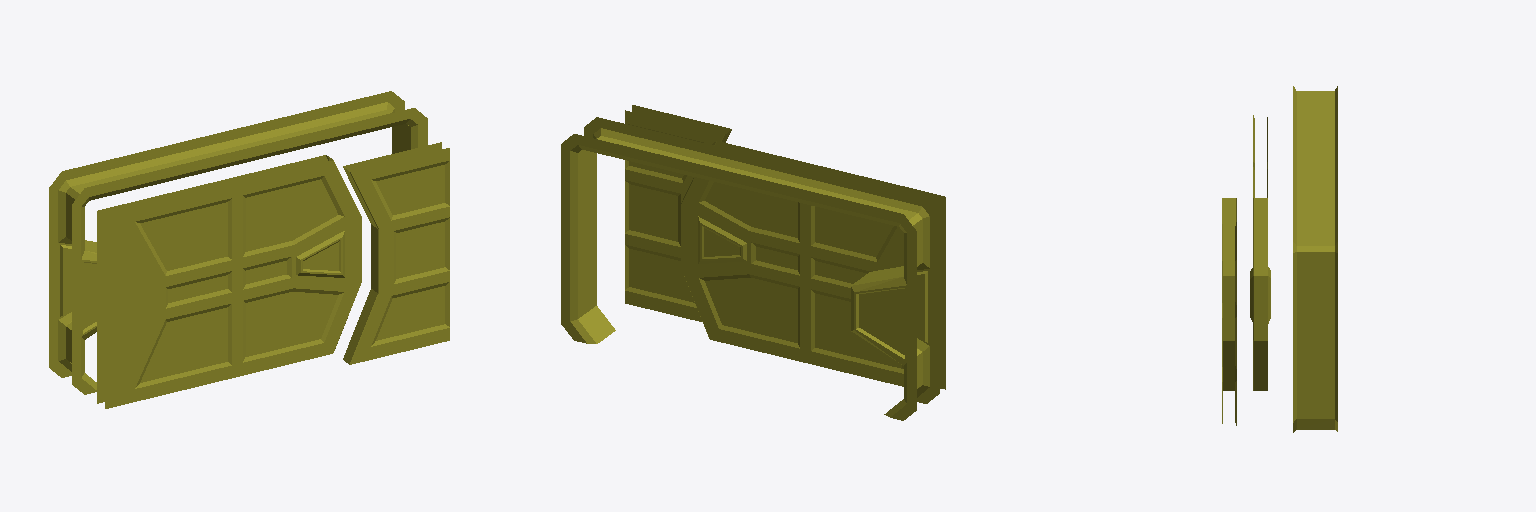
Rendered from BlastDoor.obj.
3 renders of one model, left to right at view 1: azimuth 30°, elevation 25°; view 2: azimuth 150°, elevation 25°; view 3: azimuth 270°, elevation 25°, orthographic.
Parts seen in each view (by area): view 1: SM_BlastDoorFrame_E; view 2: SM_BlastDoorFrame_E; view 3: SM_BlastDoorFrame_E.
Part boxes in pixels (x1,y1,x2,y2): SM_BlastDoorFrame_E: (49, 91, 449, 408); SM_BlastDoorFrame_E: (561, 105, 945, 420); SM_BlastDoorFrame_E: (1222, 86, 1337, 432).
Bounding box in the file's own units: 213 × 118 × 60.41.